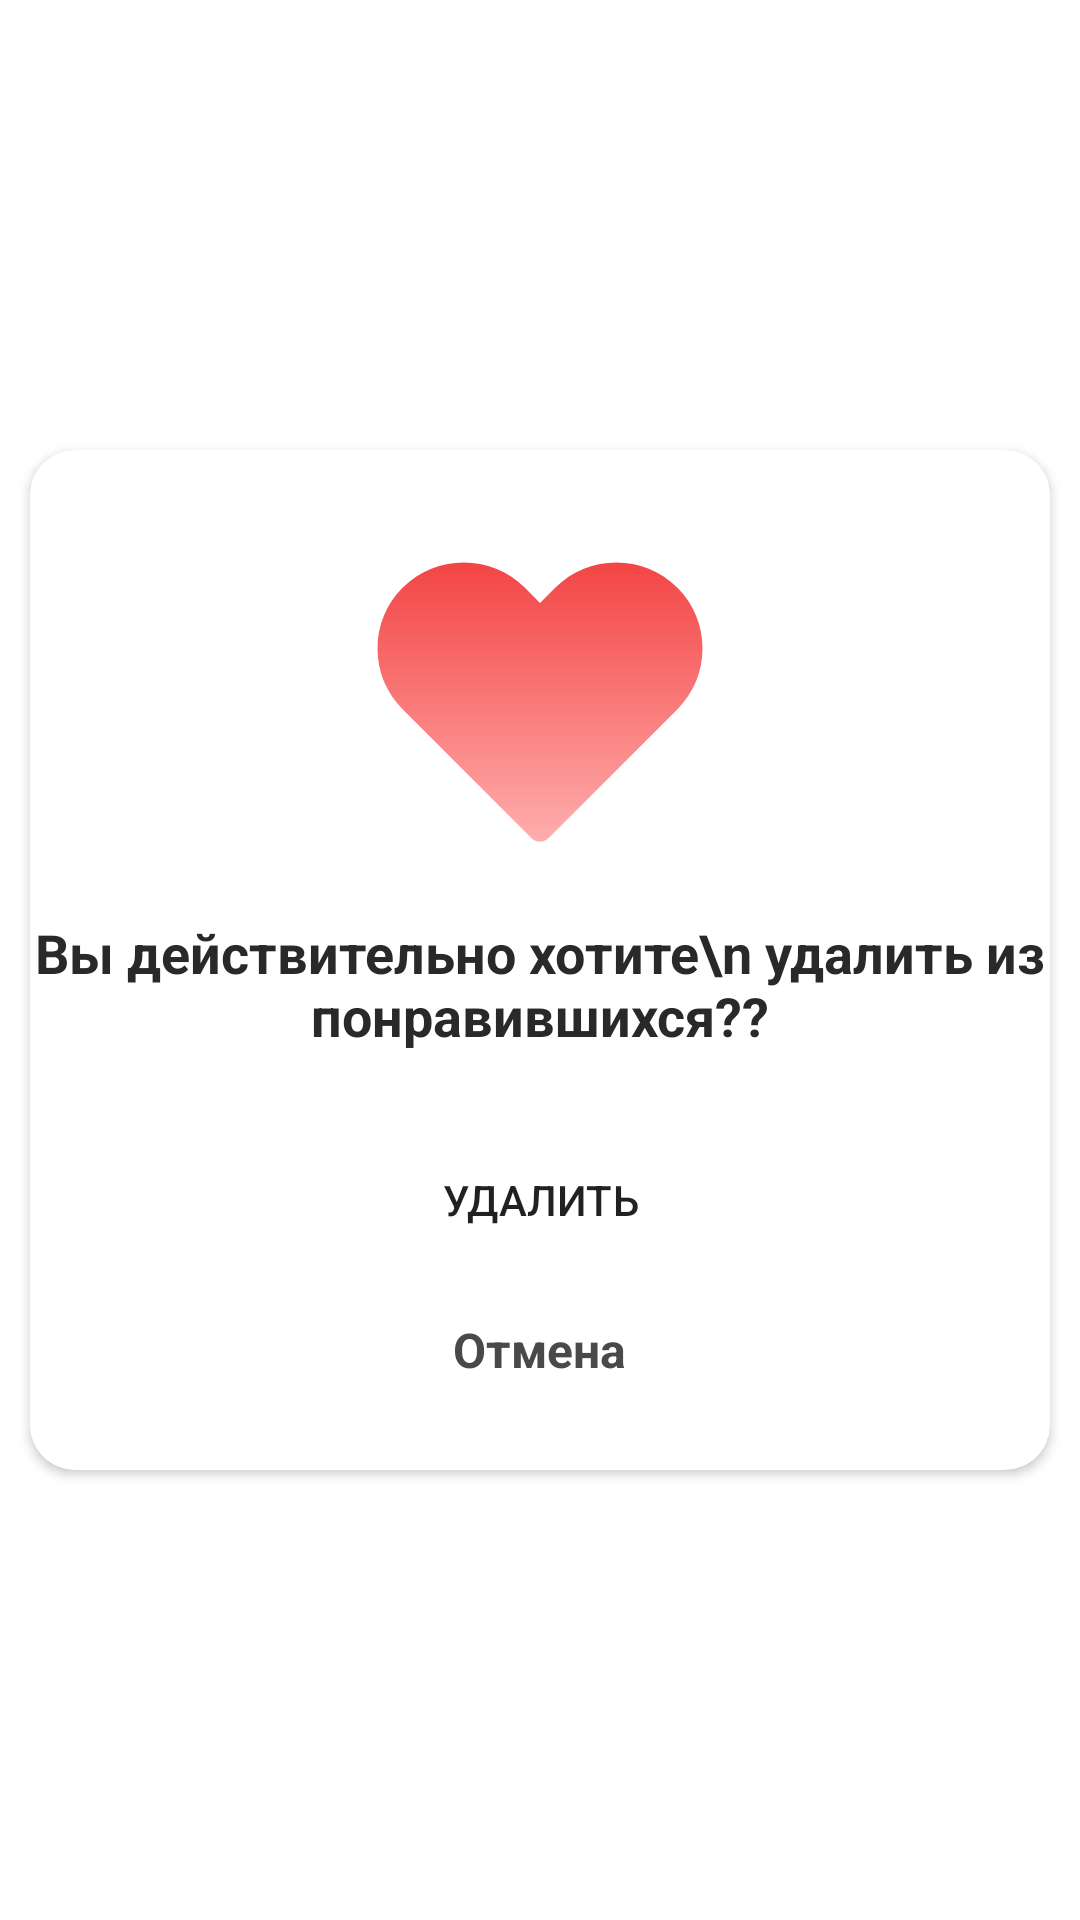

Named icons in this screenshot (1080*1920) and their centers, (x,y):
liked: (540,702)
